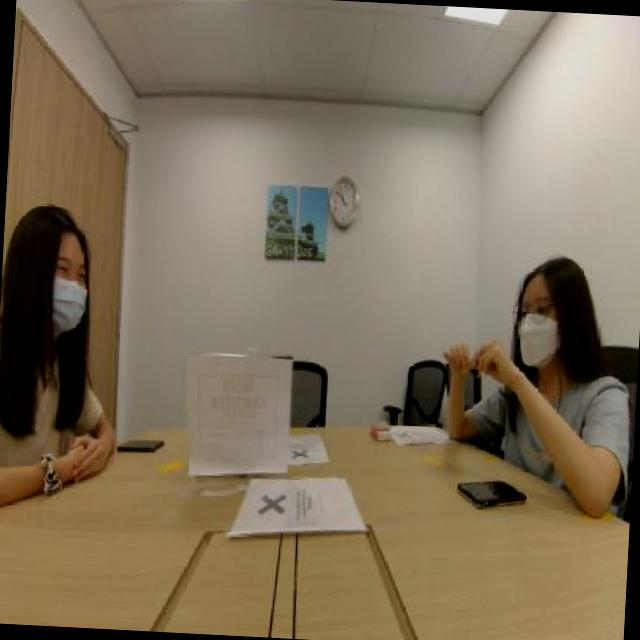Person: (0, 179, 128, 483), (470, 238, 640, 462)
